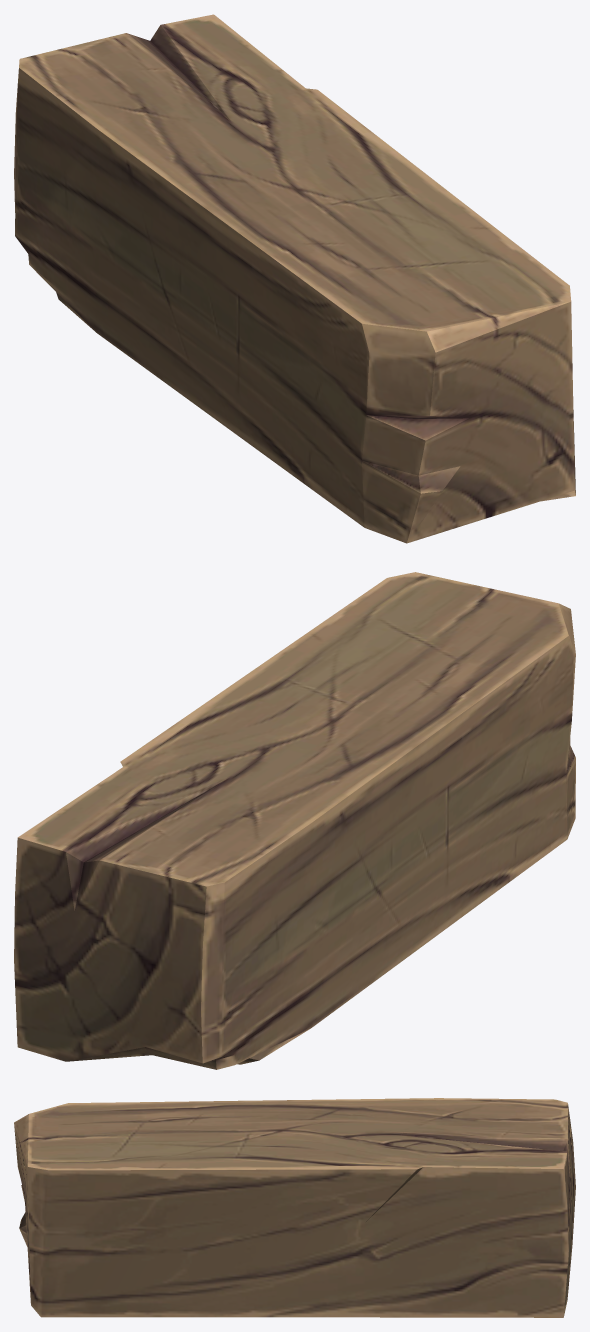
File: balk_small.fbx
3 renders of one model, top to bottom at view 1: azimuth 30°, elevation 25°; view 2: azimuth 150°, elevation 25°; view 3: azimuth 270°, elevation 25°, orthographic. The views are drawn at different scales.
Parts seen in each view (by area): view 1: pillars.1_007; view 2: pillars.1_007; view 3: pillars.1_007.
Boxes of the visible parts, x1=… form: pillars.1_007: x1=14, y1=14, x2=575, y2=543; pillars.1_007: x1=14, y1=572, x2=575, y2=1069; pillars.1_007: x1=14, y1=1098, x2=575, y2=1317.
Size of the model in its own units: 0.2725 by 0.2682 by 0.9077.
